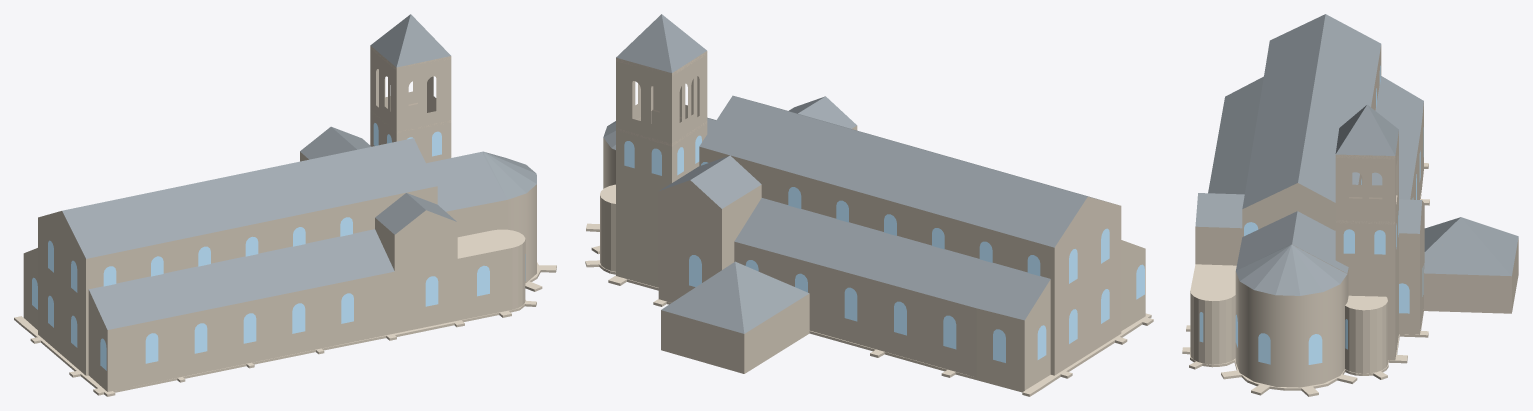
3 renders of one model, left to right at view 1: azimuth 30°, elevation 25°; view 2: azimuth 150°, elevation 25°; view 3: azimuth 270°, elevation 25°, orthographic. The views are drawn at different scales.
Visible parts, largest first — view 1: stone, roof, window; view 2: stone, roof, window; view 3: roof, stone, window.
Part boxes in pixels (x1,y1,x2,y2): stone: [14, 46, 556, 396]; roof: [62, 14, 536, 329]; window: [32, 123, 525, 370]; stone: [585, 51, 1153, 396]; roof: [603, 14, 1108, 333]; window: [624, 135, 1144, 362]; roof: [1195, 14, 1518, 295]; stone: [1182, 45, 1518, 396]; window: [1199, 65, 1423, 364].
Size of the model in its own units: 54.58 by 26 by 32.48.
